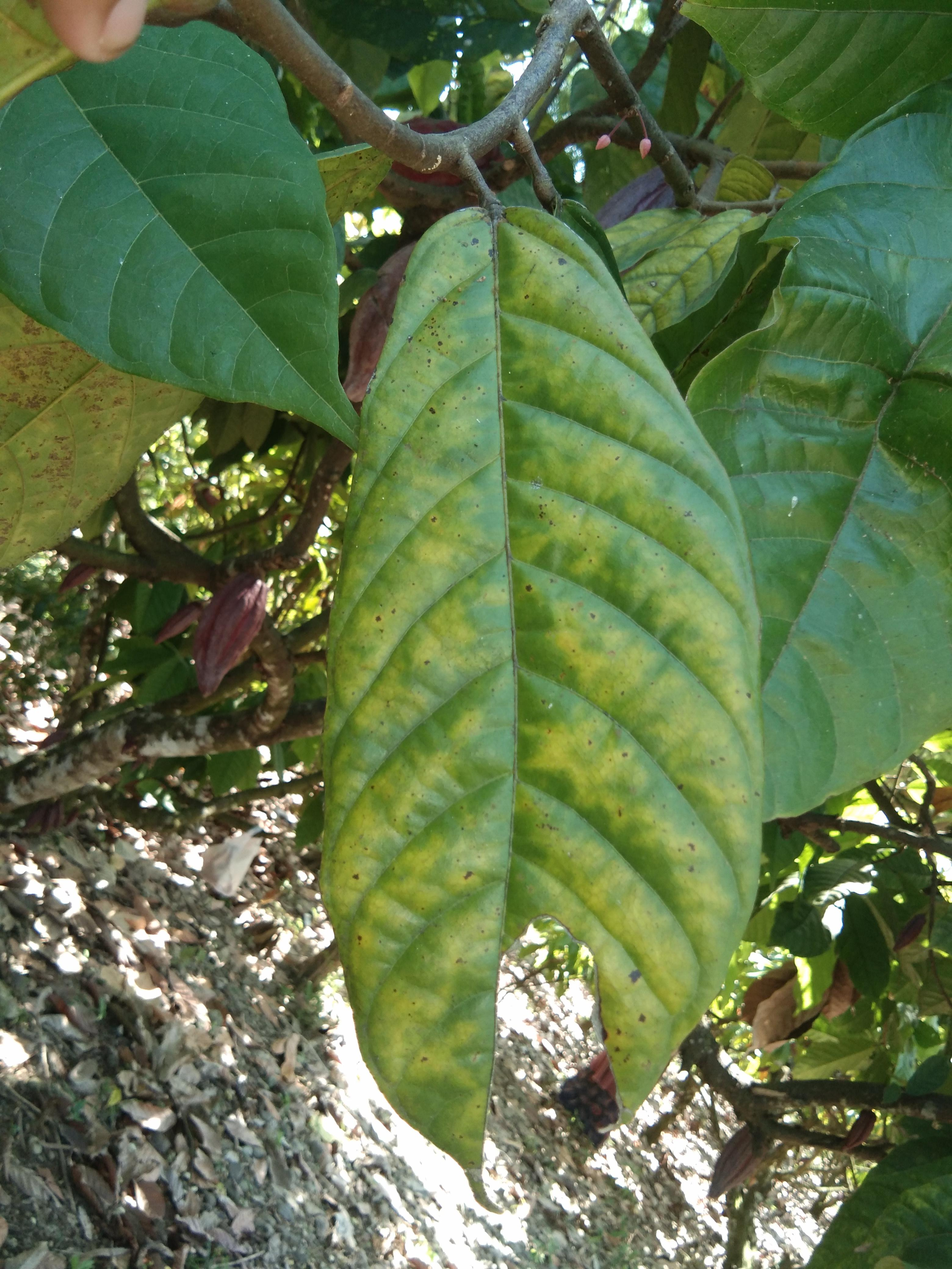deficiencia_potasio: (323, 214, 772, 1205)
